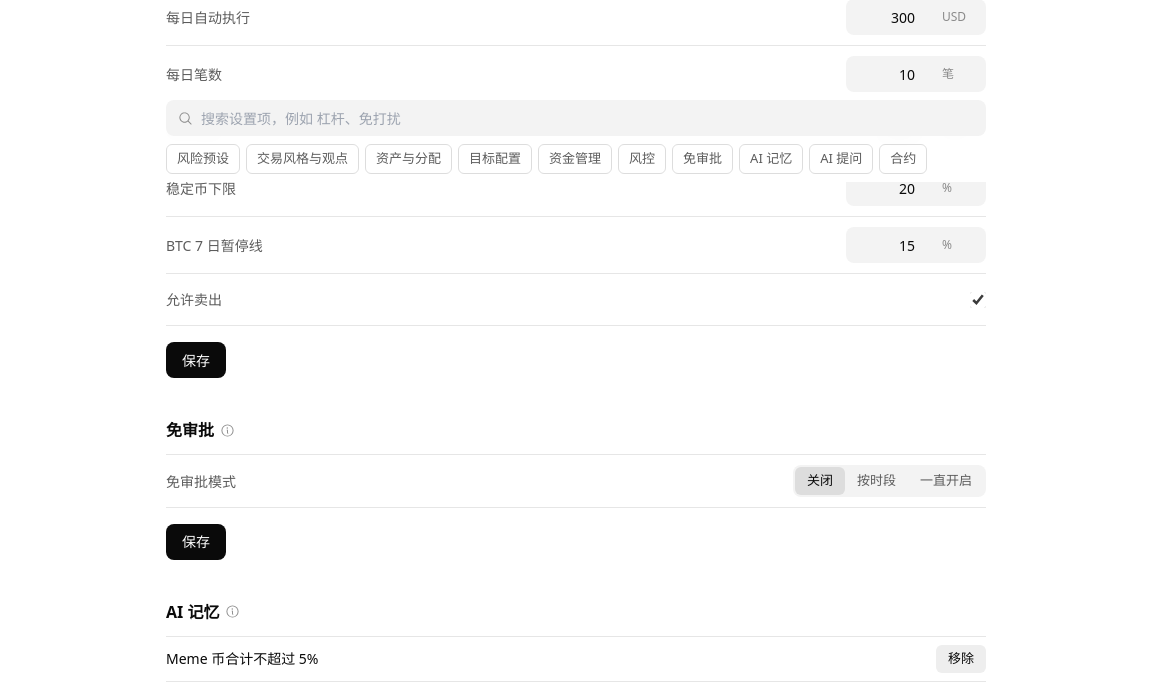
Test: Config page (配置) › does not offer a round when nothing decision-relevant changed
This screenshot has width=1152, height=694.
(page scrolled)
Click the button "保存" below "允许卖出".
click(196, 360)  # box [166,342,226,378]
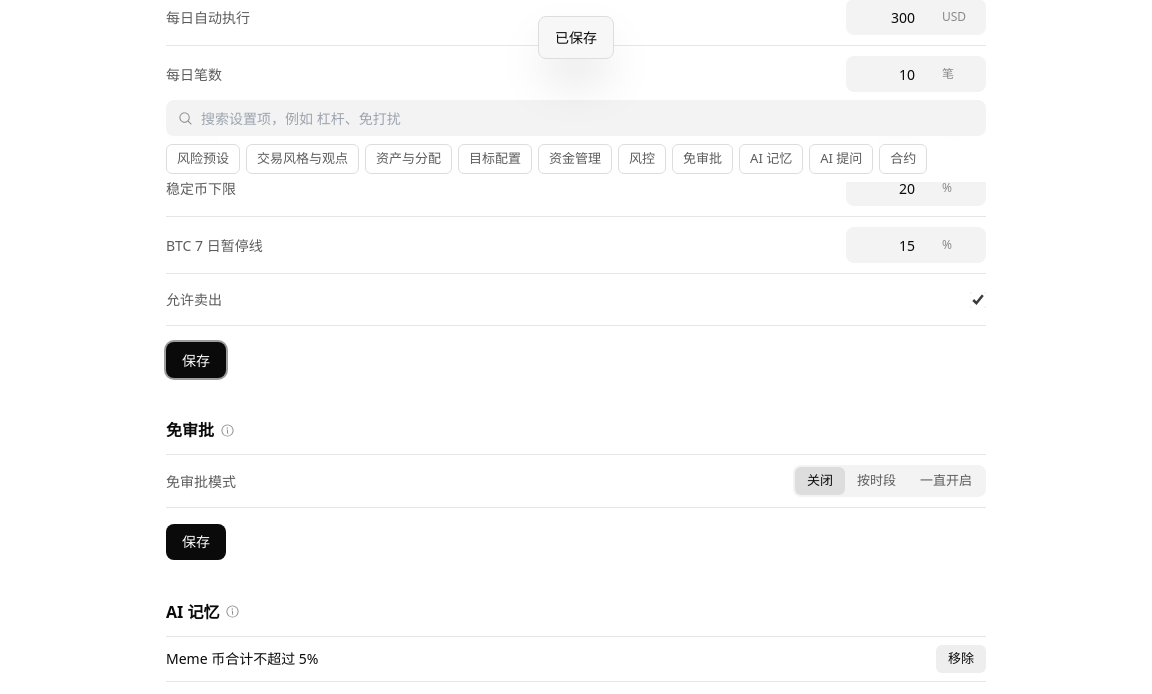
Result: the text "已保存" is shown at [538,16,614,59]
